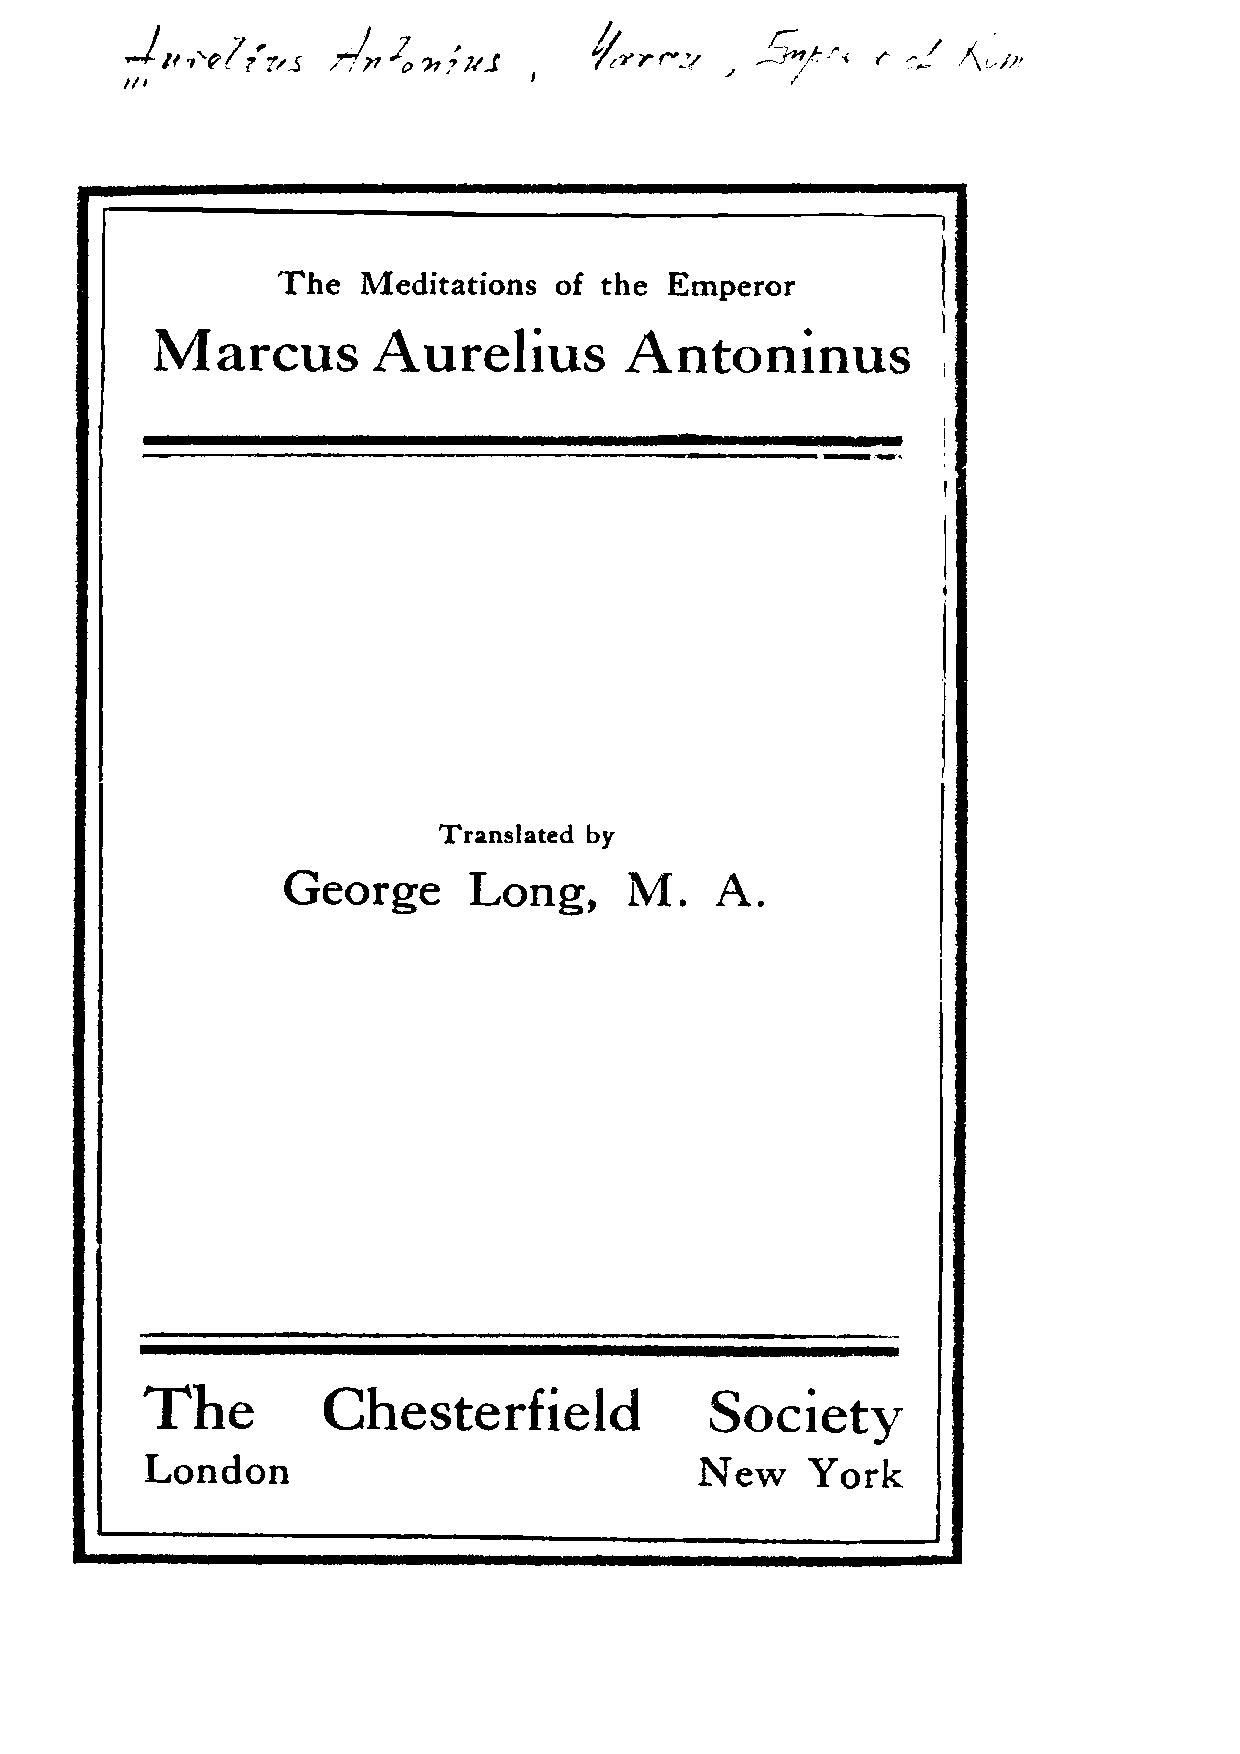author: (276, 823, 765, 917)
title: (148, 268, 911, 374)
